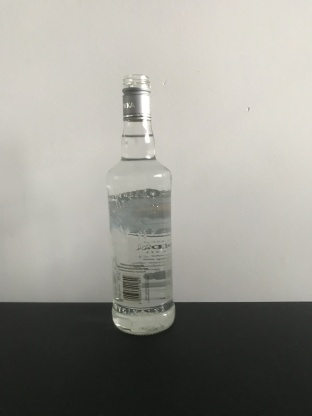nakretka: (120, 72, 153, 122)
